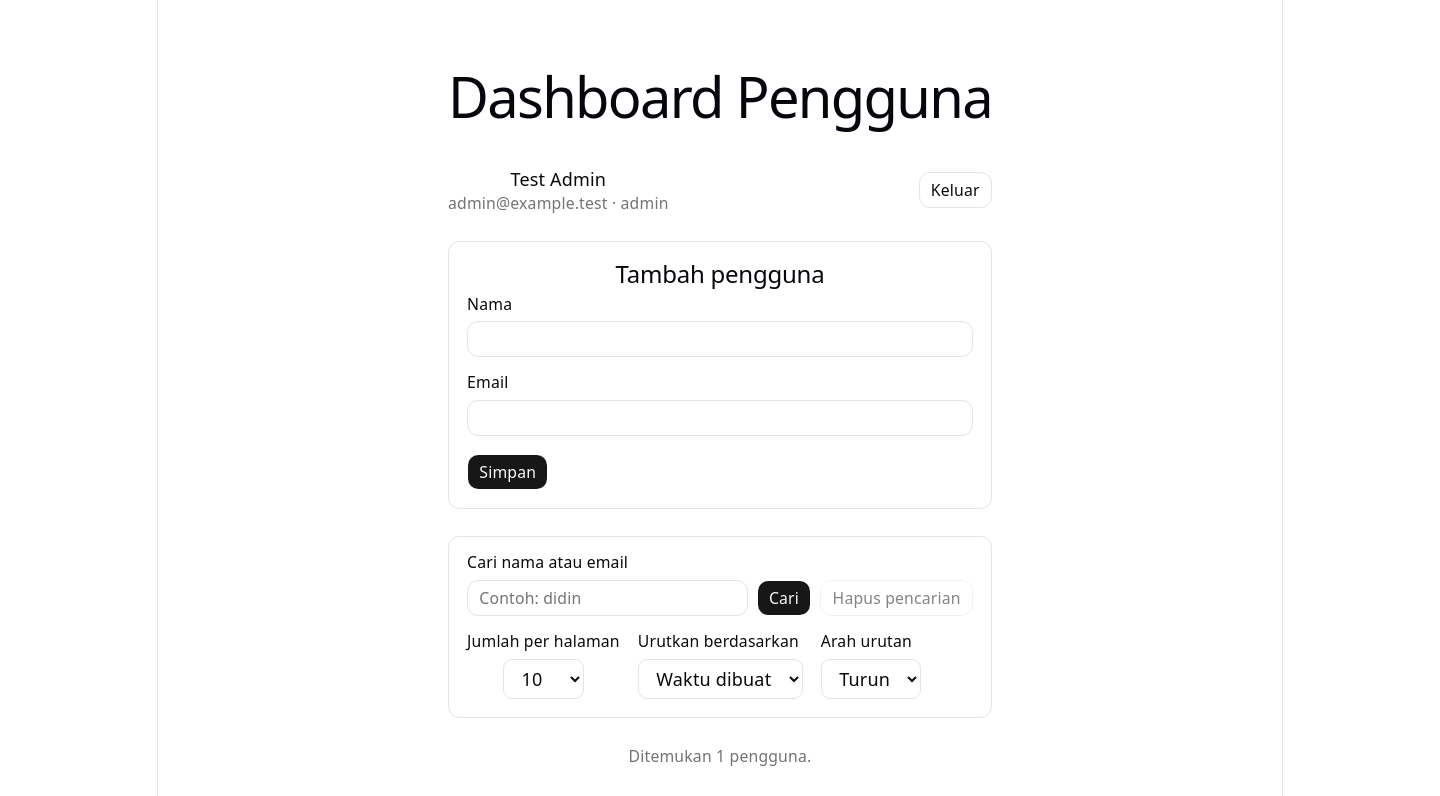
Test: autentikasi melalui route aplikasi › logout kembali ke login dan menghapus cache privat
The width and height of the screenshot is (1440, 796).
Click the button "Keluar". click: (955, 190)
box: [918, 172, 992, 208]
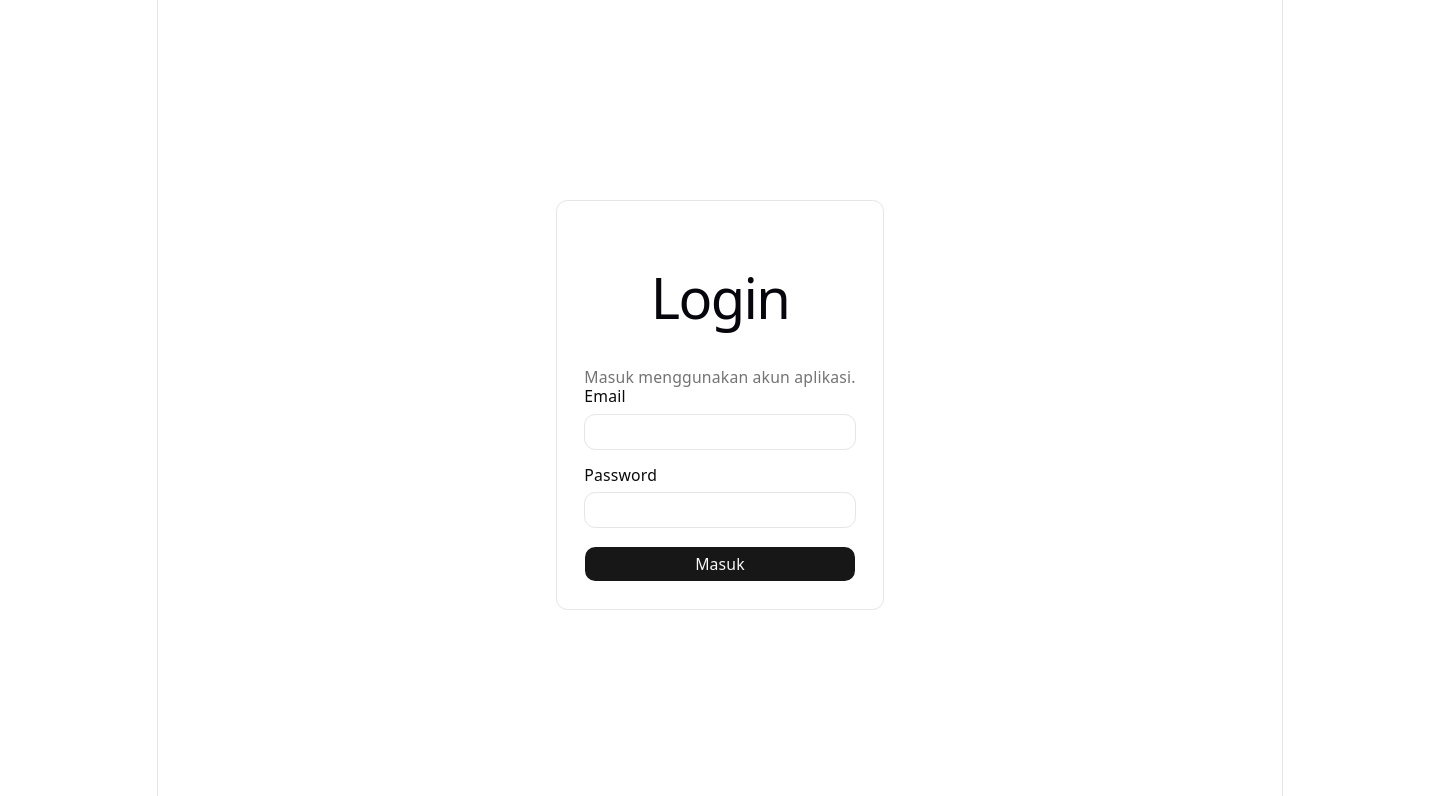
Now the heading "Login" is shown, box [651, 259, 789, 335]
